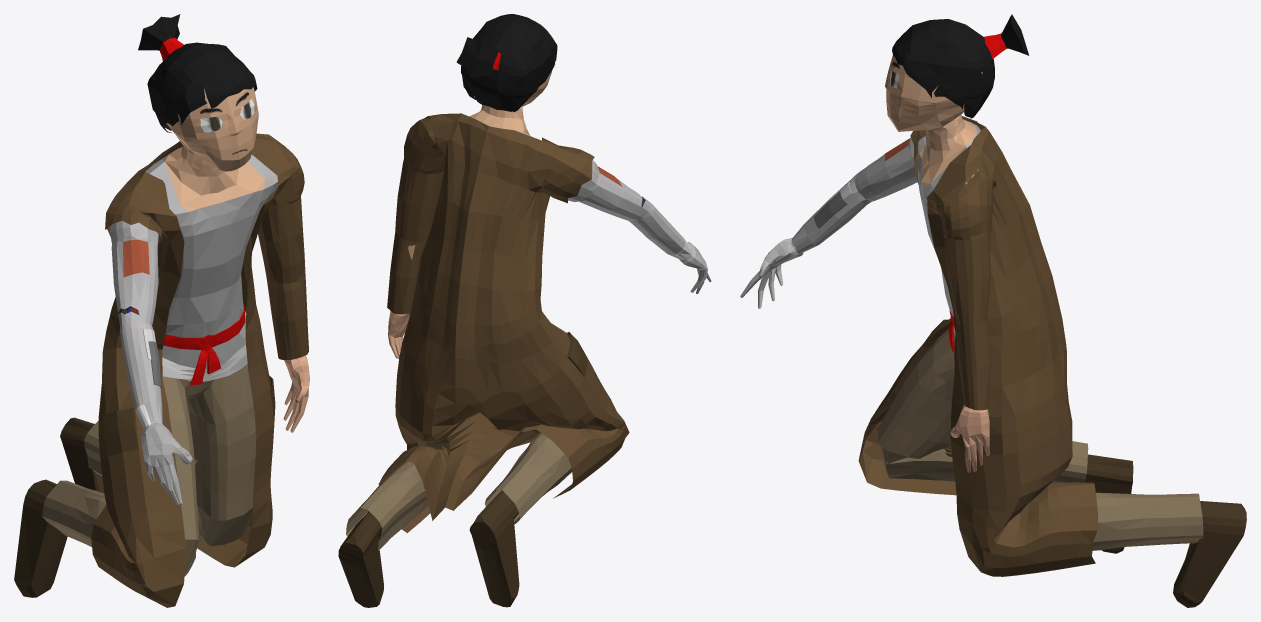
Rendered from One_Die_000018.obj.
The picture shows the model from 3 angles, left to right: view 1: azimuth 30°, elevation 25°; view 2: azimuth 150°, elevation 25°; view 3: azimuth 270°, elevation 25°; orthographic projection. The views are drawn at different scales.
Visible parts, largest first — view 1: Hair_Cube.004; view 2: Hair_Cube.004; view 3: Hair_Cube.004.
Boxes of the visible parts, x1,y1,x2,y2 form: Hair_Cube.004: [14, 14, 309, 607]; Hair_Cube.004: [338, 14, 711, 607]; Hair_Cube.004: [740, 14, 1246, 607].
Bounding box in the file's own units: 1.41 × 3.03 × 2.43.
